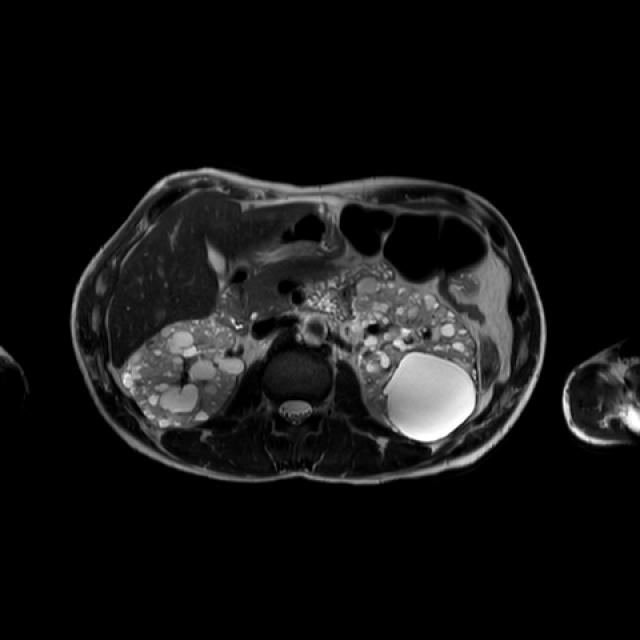sag: (126, 318, 246, 428)
sol: (354, 275, 481, 445)
